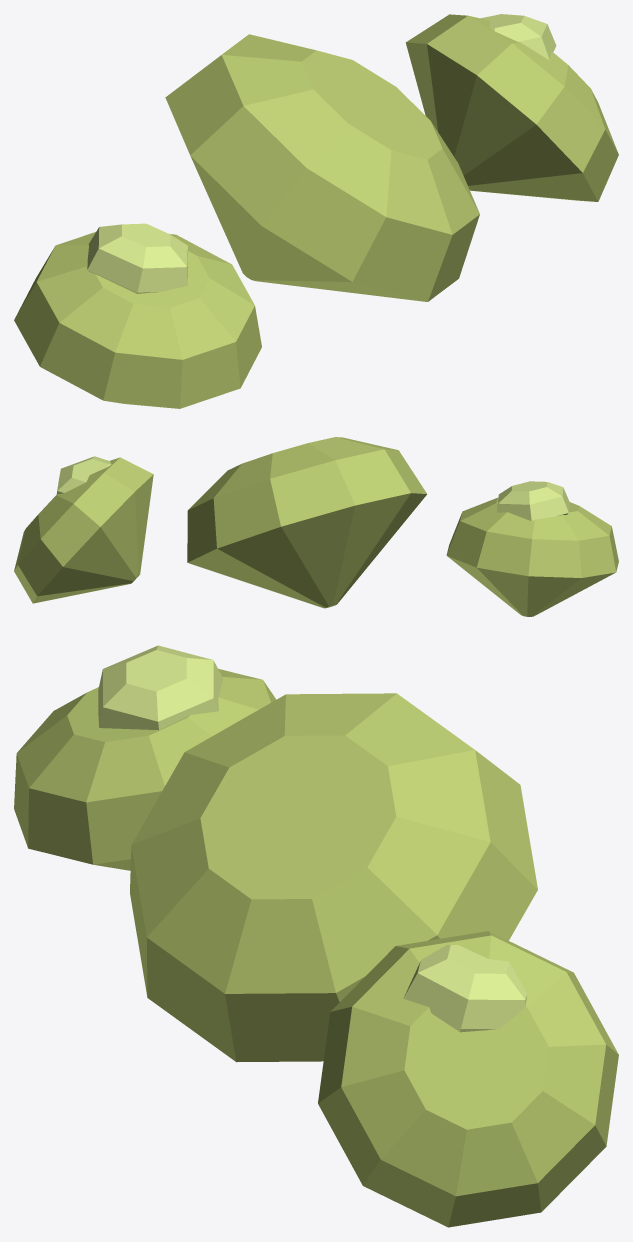
The picture shows the model from 3 angles, top to bottom: view 1: azimuth 30°, elevation 25°; view 2: azimuth 150°, elevation 25°; view 3: azimuth 270°, elevation 25°; orthographic projection. The views are drawn at different scales.
Visible parts, largest first — view 1: TI032 / individually faceted stone 1, TI032 / individually faceted stone 0, TI032 / individually faceted stone 2, TI032 / inclusion colour facet, TI032 / inclusion colour facet.002; view 2: TI032 / individually faceted stone 1, TI032 / individually faceted stone 2, TI032 / individually faceted stone 0, TI032 / inclusion colour facet, TI032 / inclusion colour facet.002; view 3: TI032 / individually faceted stone 1, TI032 / individually faceted stone 2, TI032 / individually faceted stone 0, TI032 / inclusion colour facet, TI032 / inclusion colour facet.002.
Part boxes in pixels (x1,y1,x2,y2): TI032 / individually faceted stone 1: (165,34,479,301); TI032 / individually faceted stone 0: (14,232,261,408); TI032 / individually faceted stone 2: (405,14,618,201); TI032 / inclusion colour facet: (87,223,187,293); TI032 / inclusion colour facet.002: (481,14,556,60); TI032 / individually faceted stone 1: (187,437,426,608); TI032 / individually faceted stone 2: (14,457,153,603); TI032 / individually faceted stone 0: (446,497,618,616); TI032 / inclusion colour facet: (497,481,569,521); TI032 / inclusion colour facet.002: (56,456,111,494); TI032 / individually faceted stone 1: (130,693,537,1062); TI032 / individually faceted stone 2: (318,931,618,1227); TI032 / individually faceted stone 0: (14,668,276,870); TI032 / inclusion colour facet: (98,645,223,730); TI032 / inclusion colour facet.002: (403,945,526,1032).
Bounding box in the file's own units: 2.54 × 0.8889 × 1.57.
